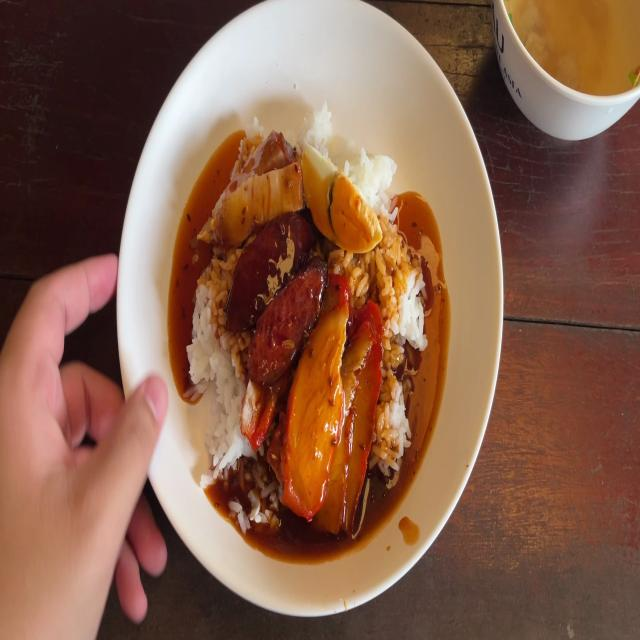red_pork_and_crispy_pork: (301, 142, 381, 255)
stir_fried_basil: (239, 218, 320, 370)
